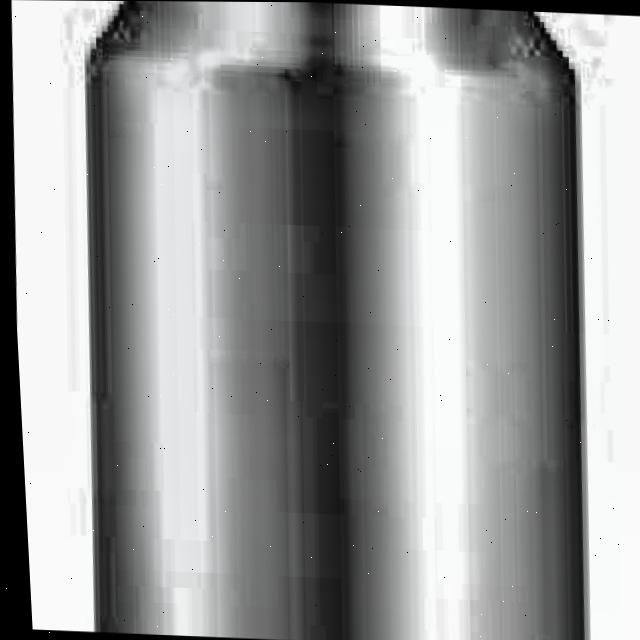metal: (41, 0, 635, 640)
